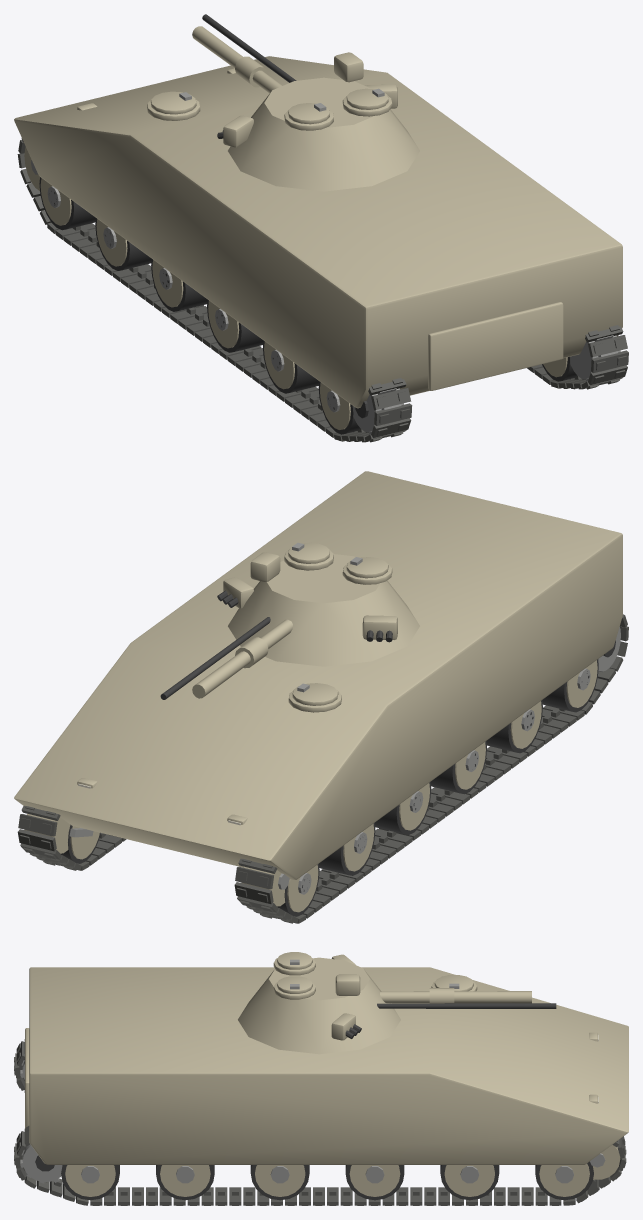
The model's file is rus_ifv_bmp3.glb.
The picture shows the model from 3 angles, top to bottom: view 1: azimuth 30°, elevation 25°; view 2: azimuth 150°, elevation 25°; view 3: azimuth 270°, elevation 25°; orthographic projection. The views are drawn at different scales.
Parts seen in each view (by area): view 1: body, turret, barrel; view 2: body, turret, barrel; view 3: body, turret, barrel.
Boxes of the visible parts, <box> form: body: <box>14,56,628,442</box>; turret: <box>217,52,419,191</box>; barrel: <box>192,14,296,93</box>; body: <box>14,471,628,923</box>; turret: <box>217,542,419,666</box>; barrel: <box>160,617,292,699</box>; body: <box>14,967,628,1205</box>; turret: <box>238,952,400,1054</box>; barrel: <box>377,988,556,1008</box>.
Size of the model in its own units: 3.1 by 2.63 by 7.52.
